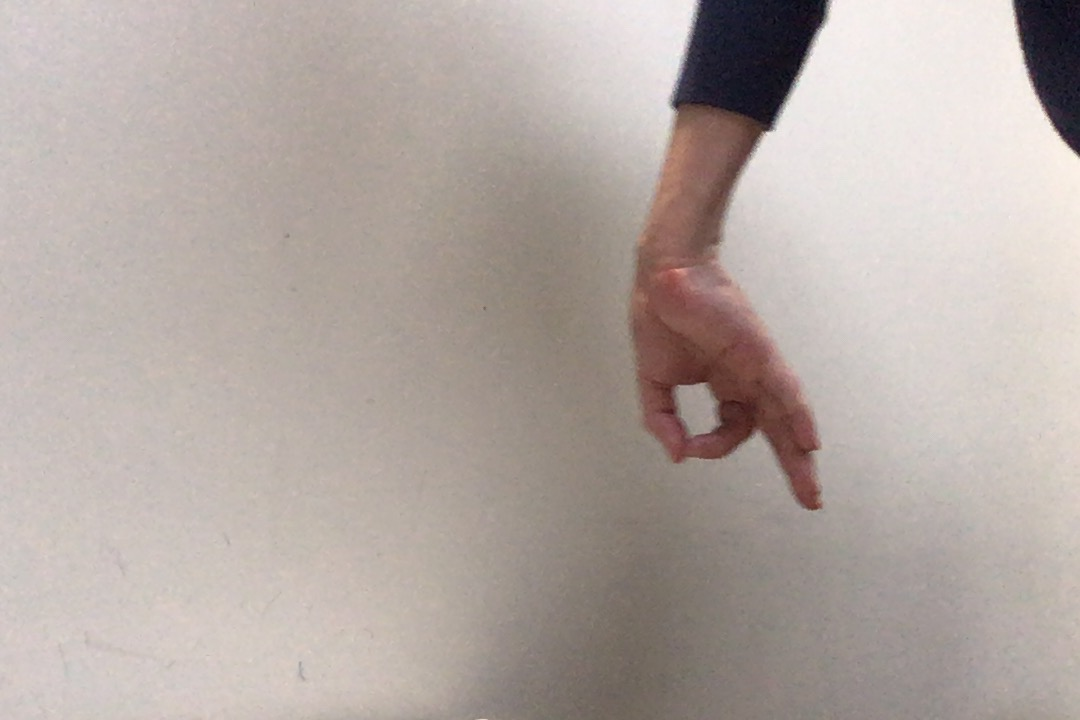oksign: (619, 251, 830, 520)
